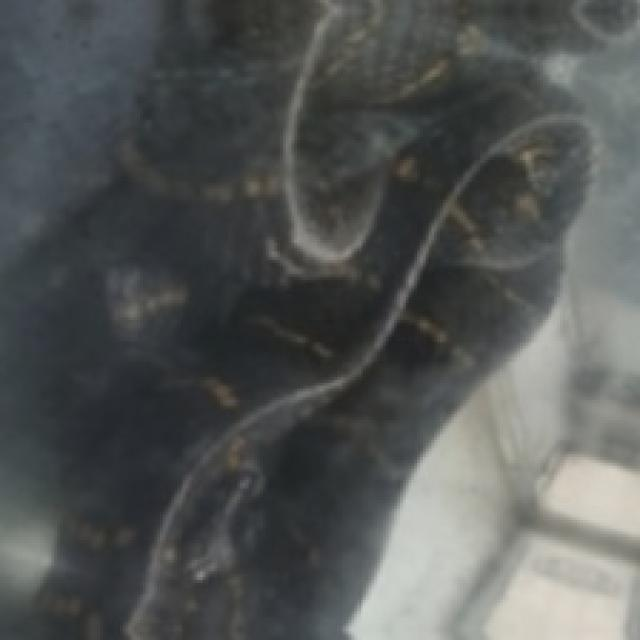mangrove cat snake: (0, 0, 591, 637)
